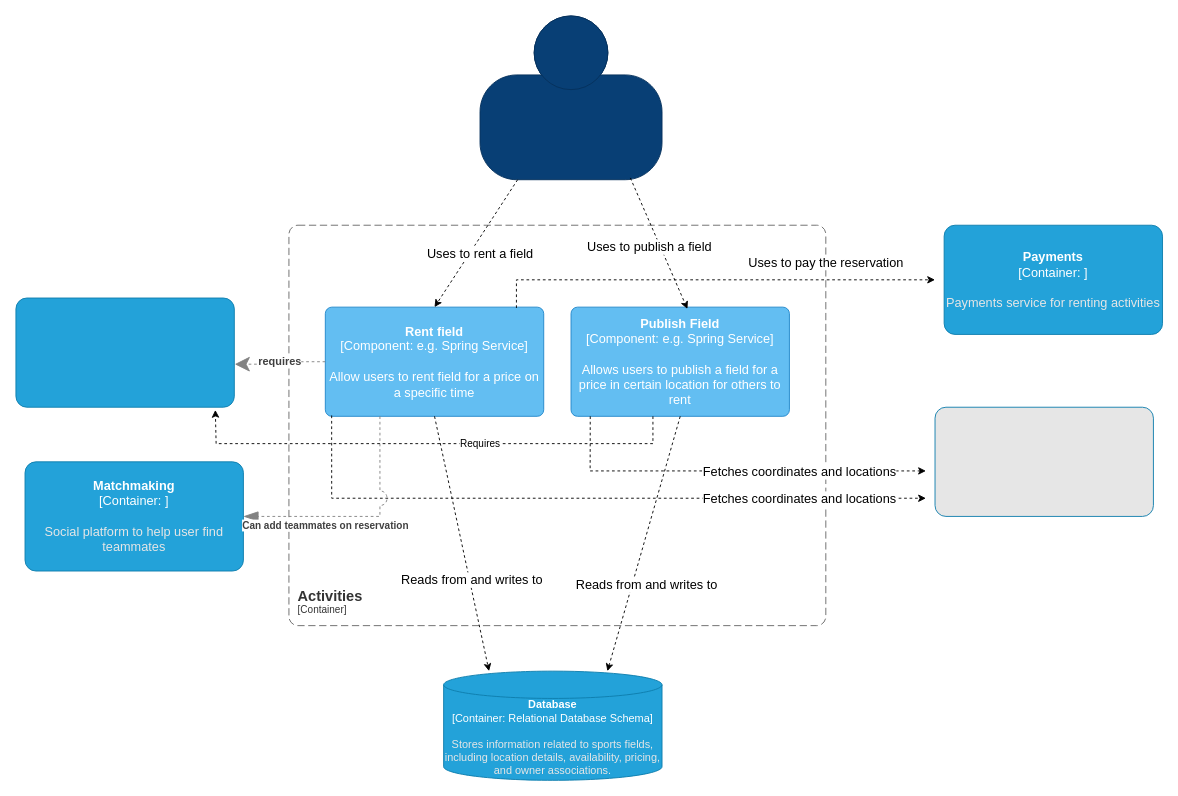
The diagram is 1178 pixels wide and 796 high, and some of its shapes have lost their labels. Here are the shapes that lost their labels. From the top down, the centre of each, then its label:
At pixel 570 97: "User [Person] Looks for teammates, rents and sells activities".
At pixel 124 352: "Profile [Container: ] Handles user profiles and logins.".
At pixel 1043 461: "OpenRouteService API [Software System: ] Provides location services and maps".
